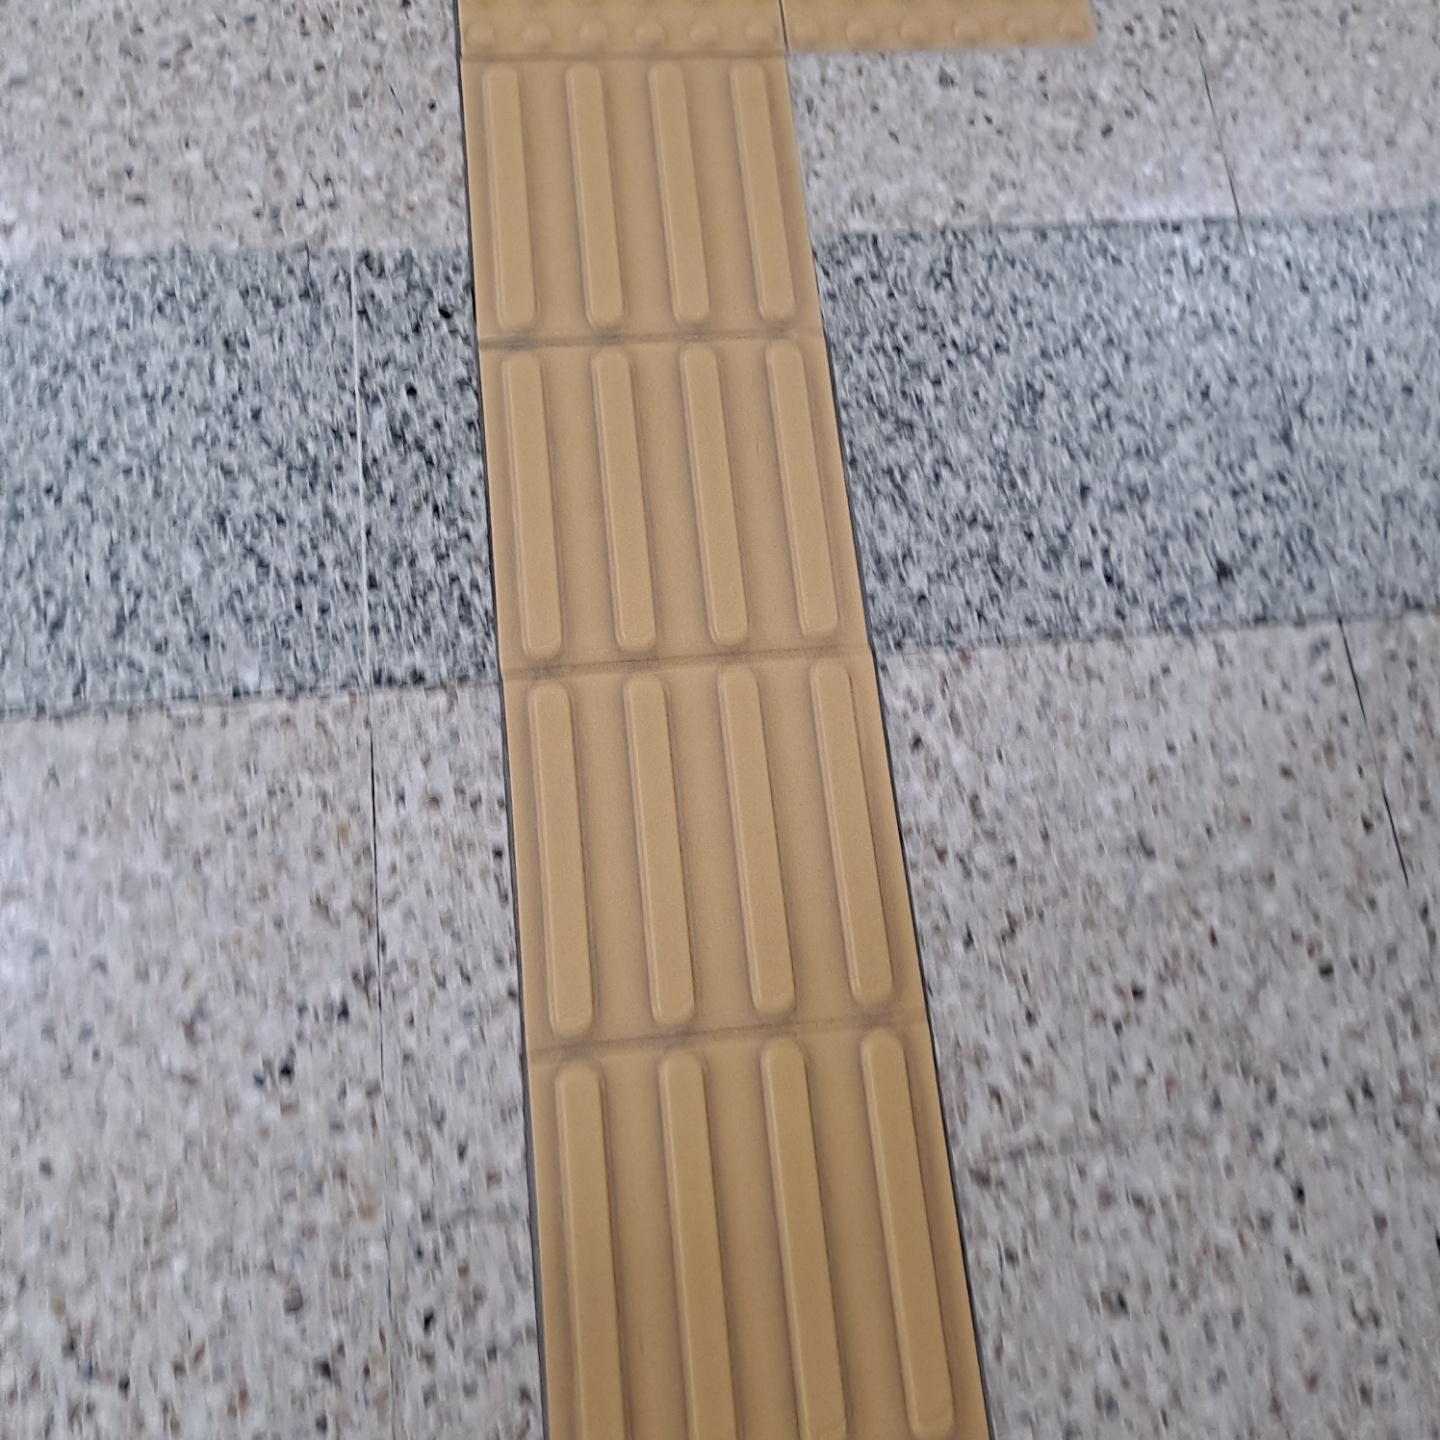guideBlock: (509, 1021, 975, 1414), (520, 665, 945, 1009), (483, 338, 837, 653), (469, 61, 795, 324)
